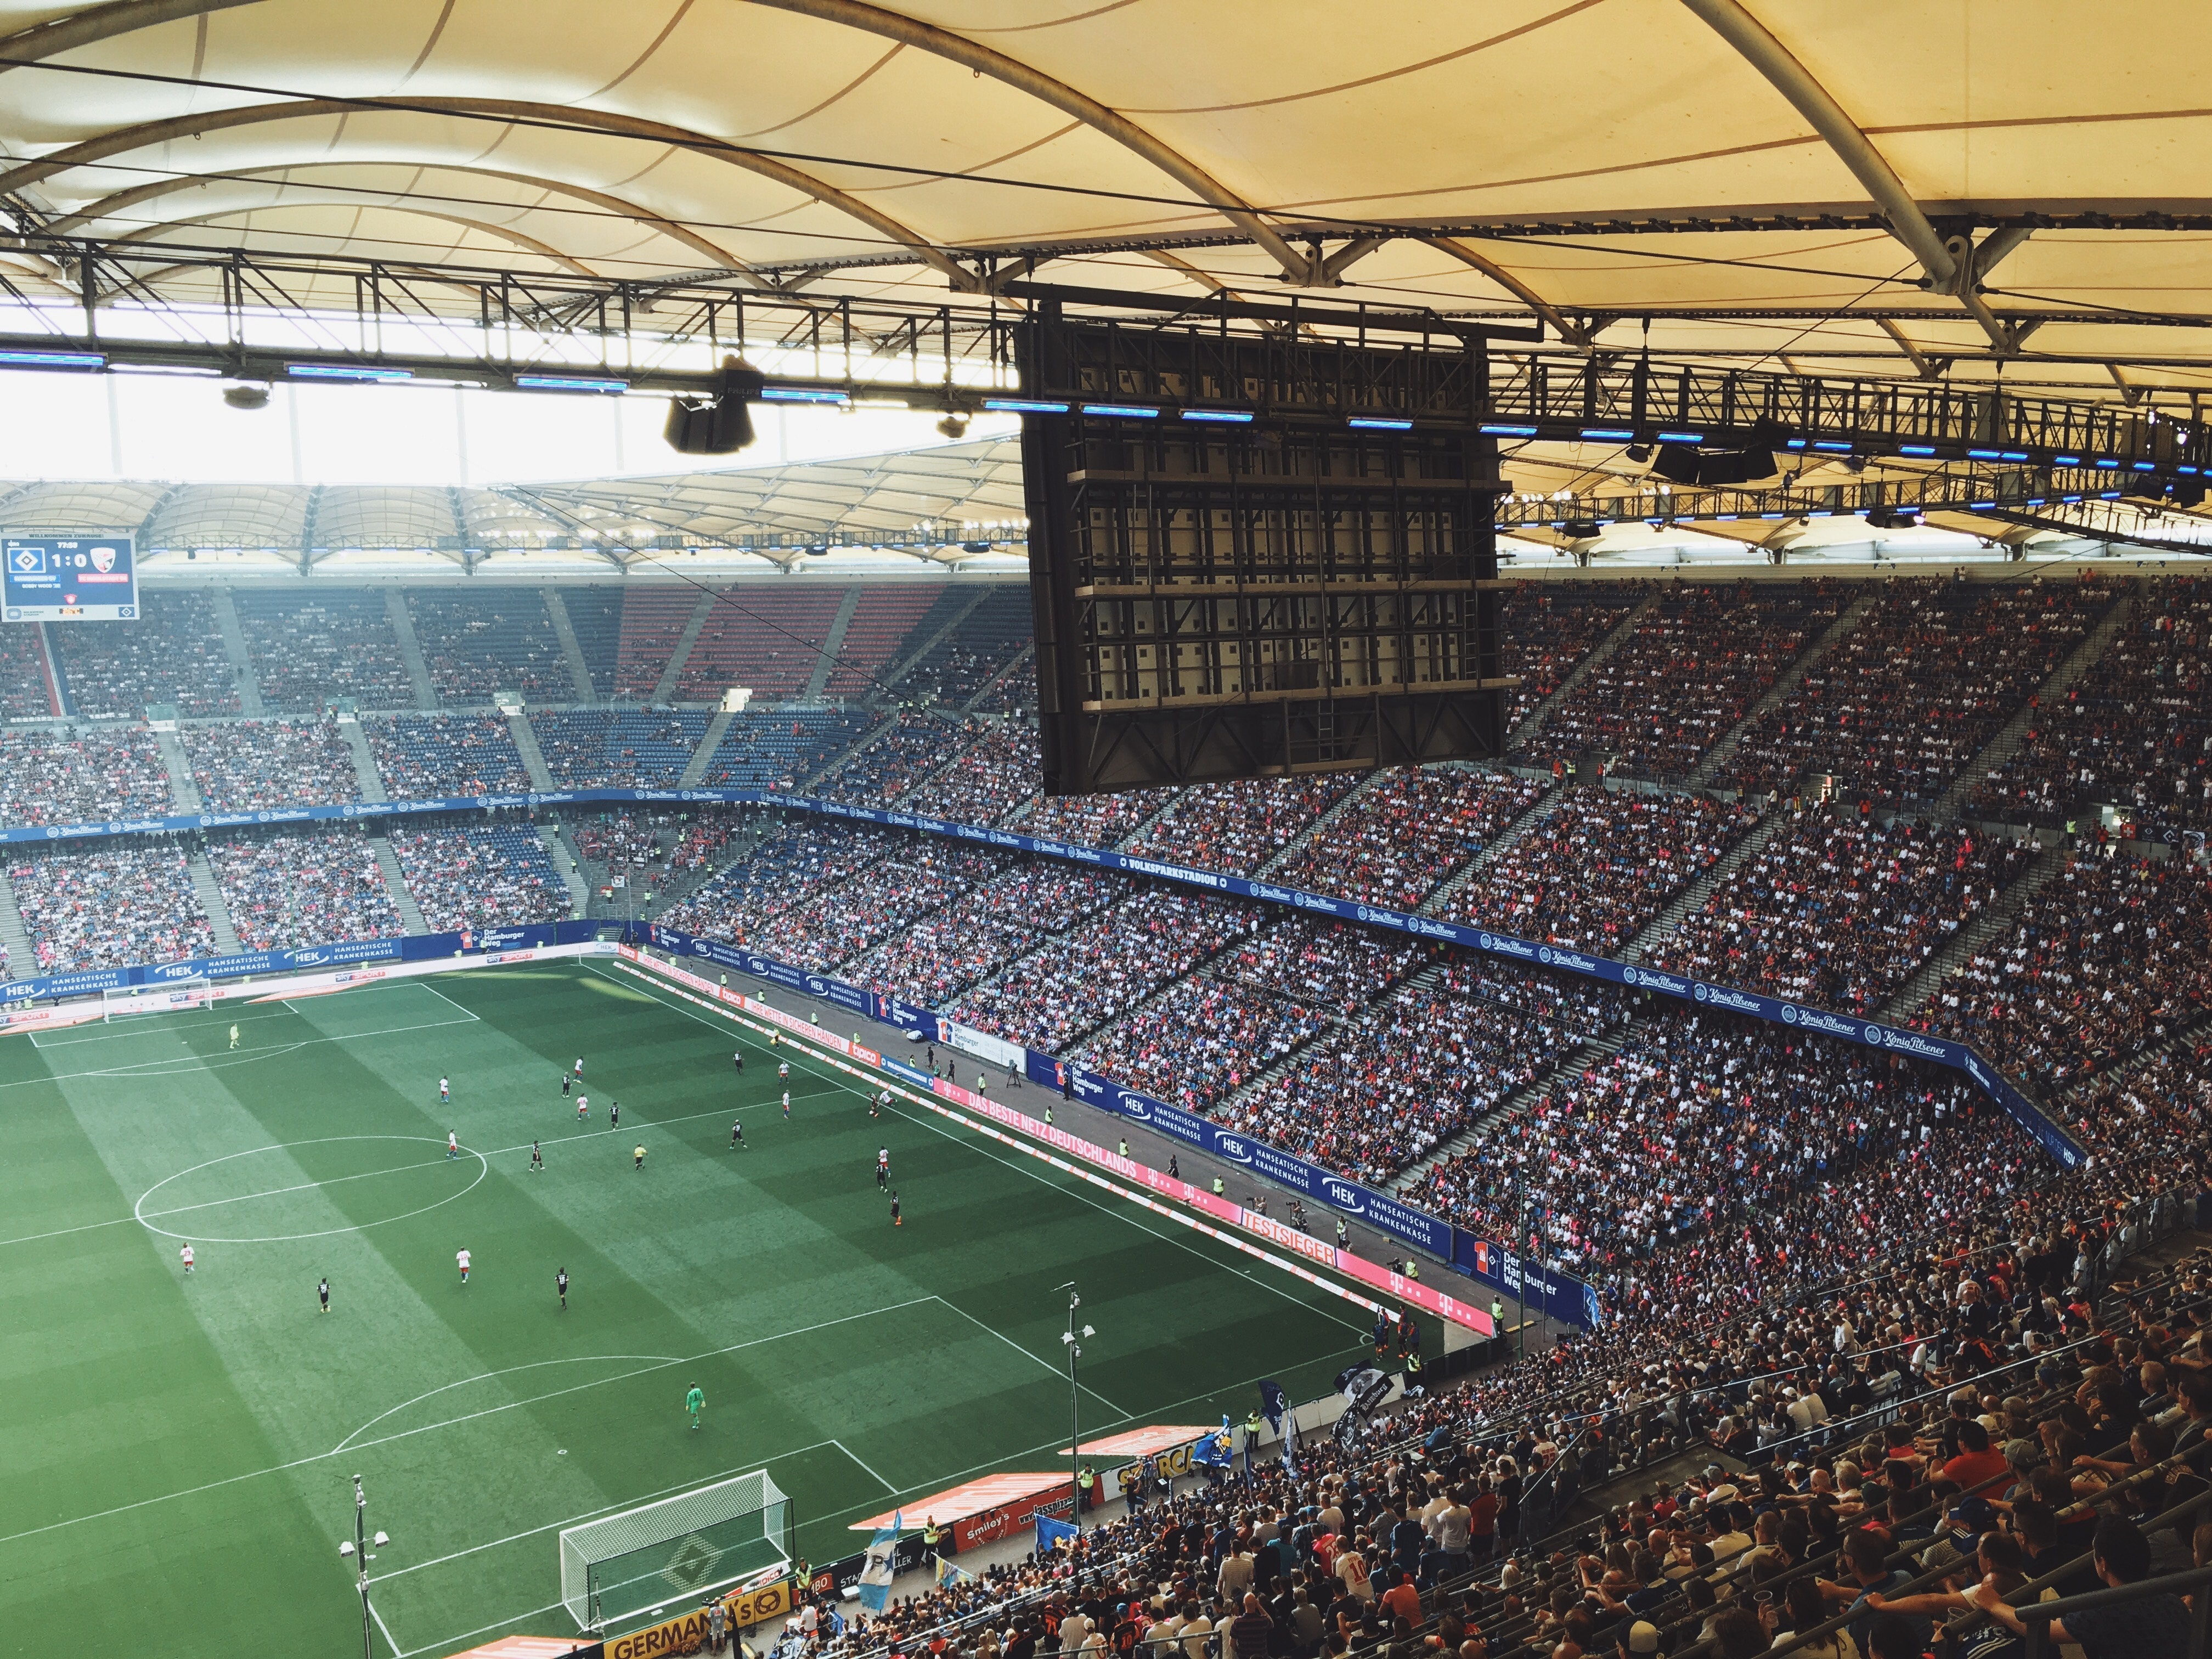stadium: (7, 16, 2205, 1633)
